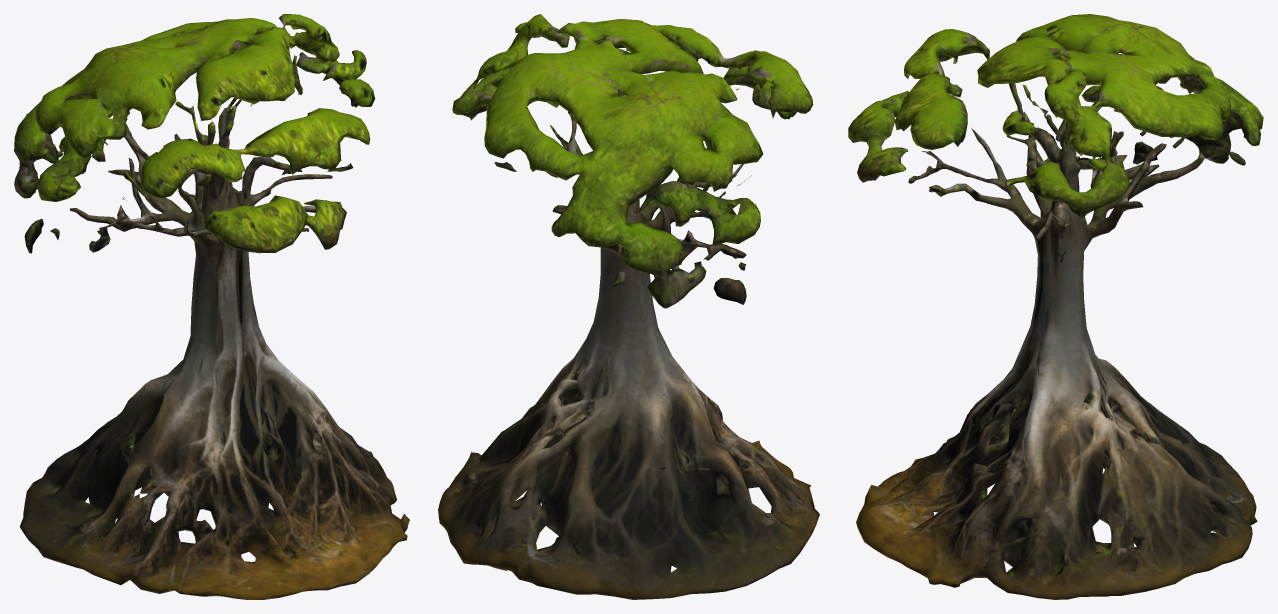
File: 40b88ff4-ae3f-4bdc-81d1-d2d1a8158736.glb
3 views of the same model, side by side, from view 1: azimuth 30°, elevation 25°; view 2: azimuth 150°, elevation 25°; view 3: azimuth 270°, elevation 25° (orthographic).
Bounding box in the file's own units: 1.41 × 1.95 × 1.49.
1 material, 1 textured.
